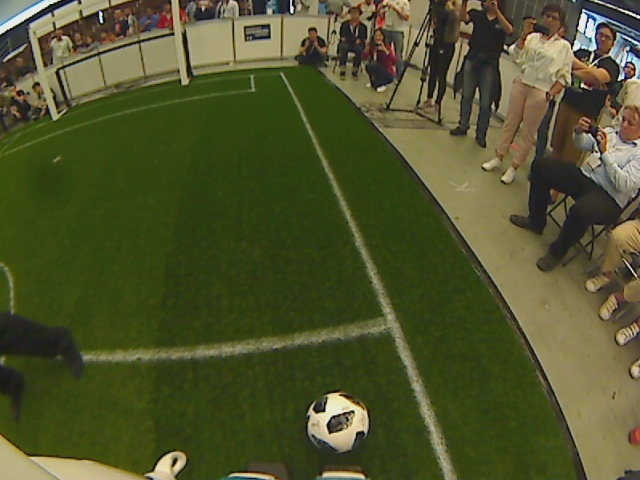ball: (303, 389, 372, 456)
